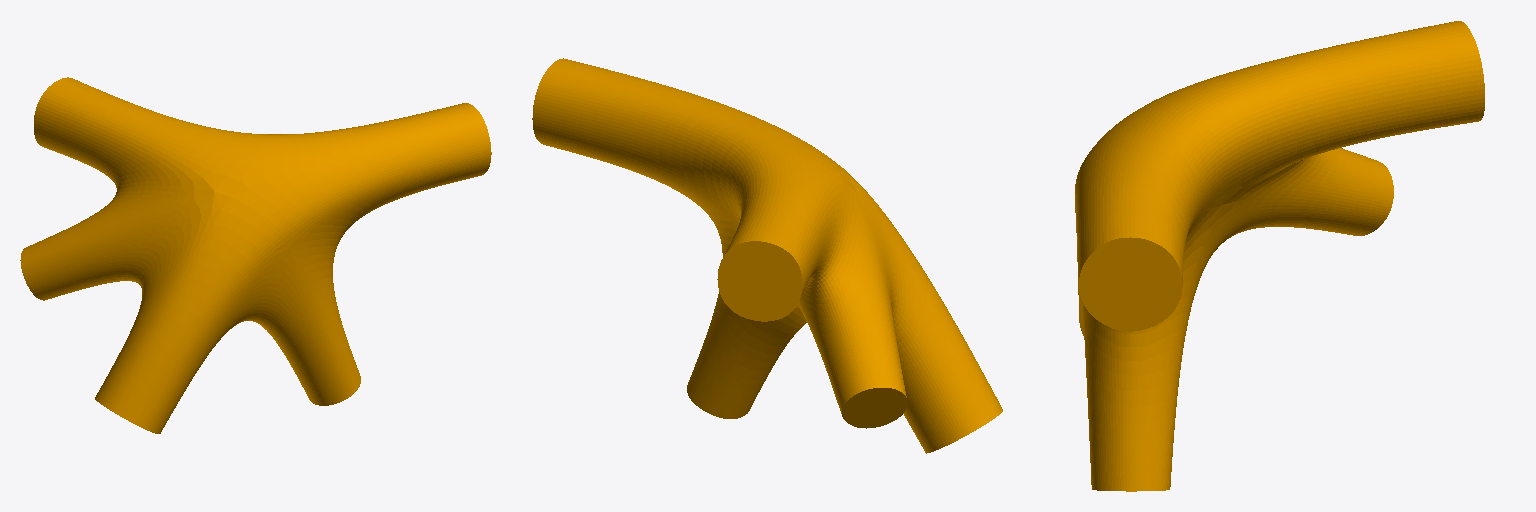
URDF robot description (object):
<robot name="object">
  <link name="object">
    <visual>
      <origin xyz="0 0 0"/>
      <geometry>
        <mesh filename="visual.obj" scale="1 1 1"/>
      </geometry>
    </visual>
    <collision>
      <origin xyz="0 0 0"/>
      <geometry>
        <mesh filename="visual.obj" scale="1 1 1"/>
      </geometry>
    </collision>
    <inertial>
      <mass value="0.05"/>
      <inertia ixx="1.728538401942751e-05" iyy="2.6618019627297503e-05" izz="2.613433134605748e-05" ixy="5.456630973254625e-06" ixz="-4.0257403269816996e-06" iyz="-2.8701358610351957e-06"/>
    </inertial>
  </link>
</robot>

--- Facts derived from the render (not from the file) ---
Views: 3 orthographic renders of the robot side by side, from view 1: azimuth 30°, elevation 25°; view 2: azimuth 150°, elevation 25°; view 3: azimuth 270°, elevation 25°.
Robot: object — 1 links, 0 joints (none); root link object; default pose: every joint at zero.
Visible links, largest first — view 1: object; view 2: object; view 3: object.
Boxes of the visible links, x1,y1,x2,y2 form: object: (20,77,491,433); object: (532,58,1002,453); object: (1075,21,1484,491).
Bounding box of the posed robot: 0.0871 × 0.0597 × 0.0596 m (x, y, z).
Meshes: 1 distinct files referenced, 1 mesh visuals loaded (1 OBJ).
